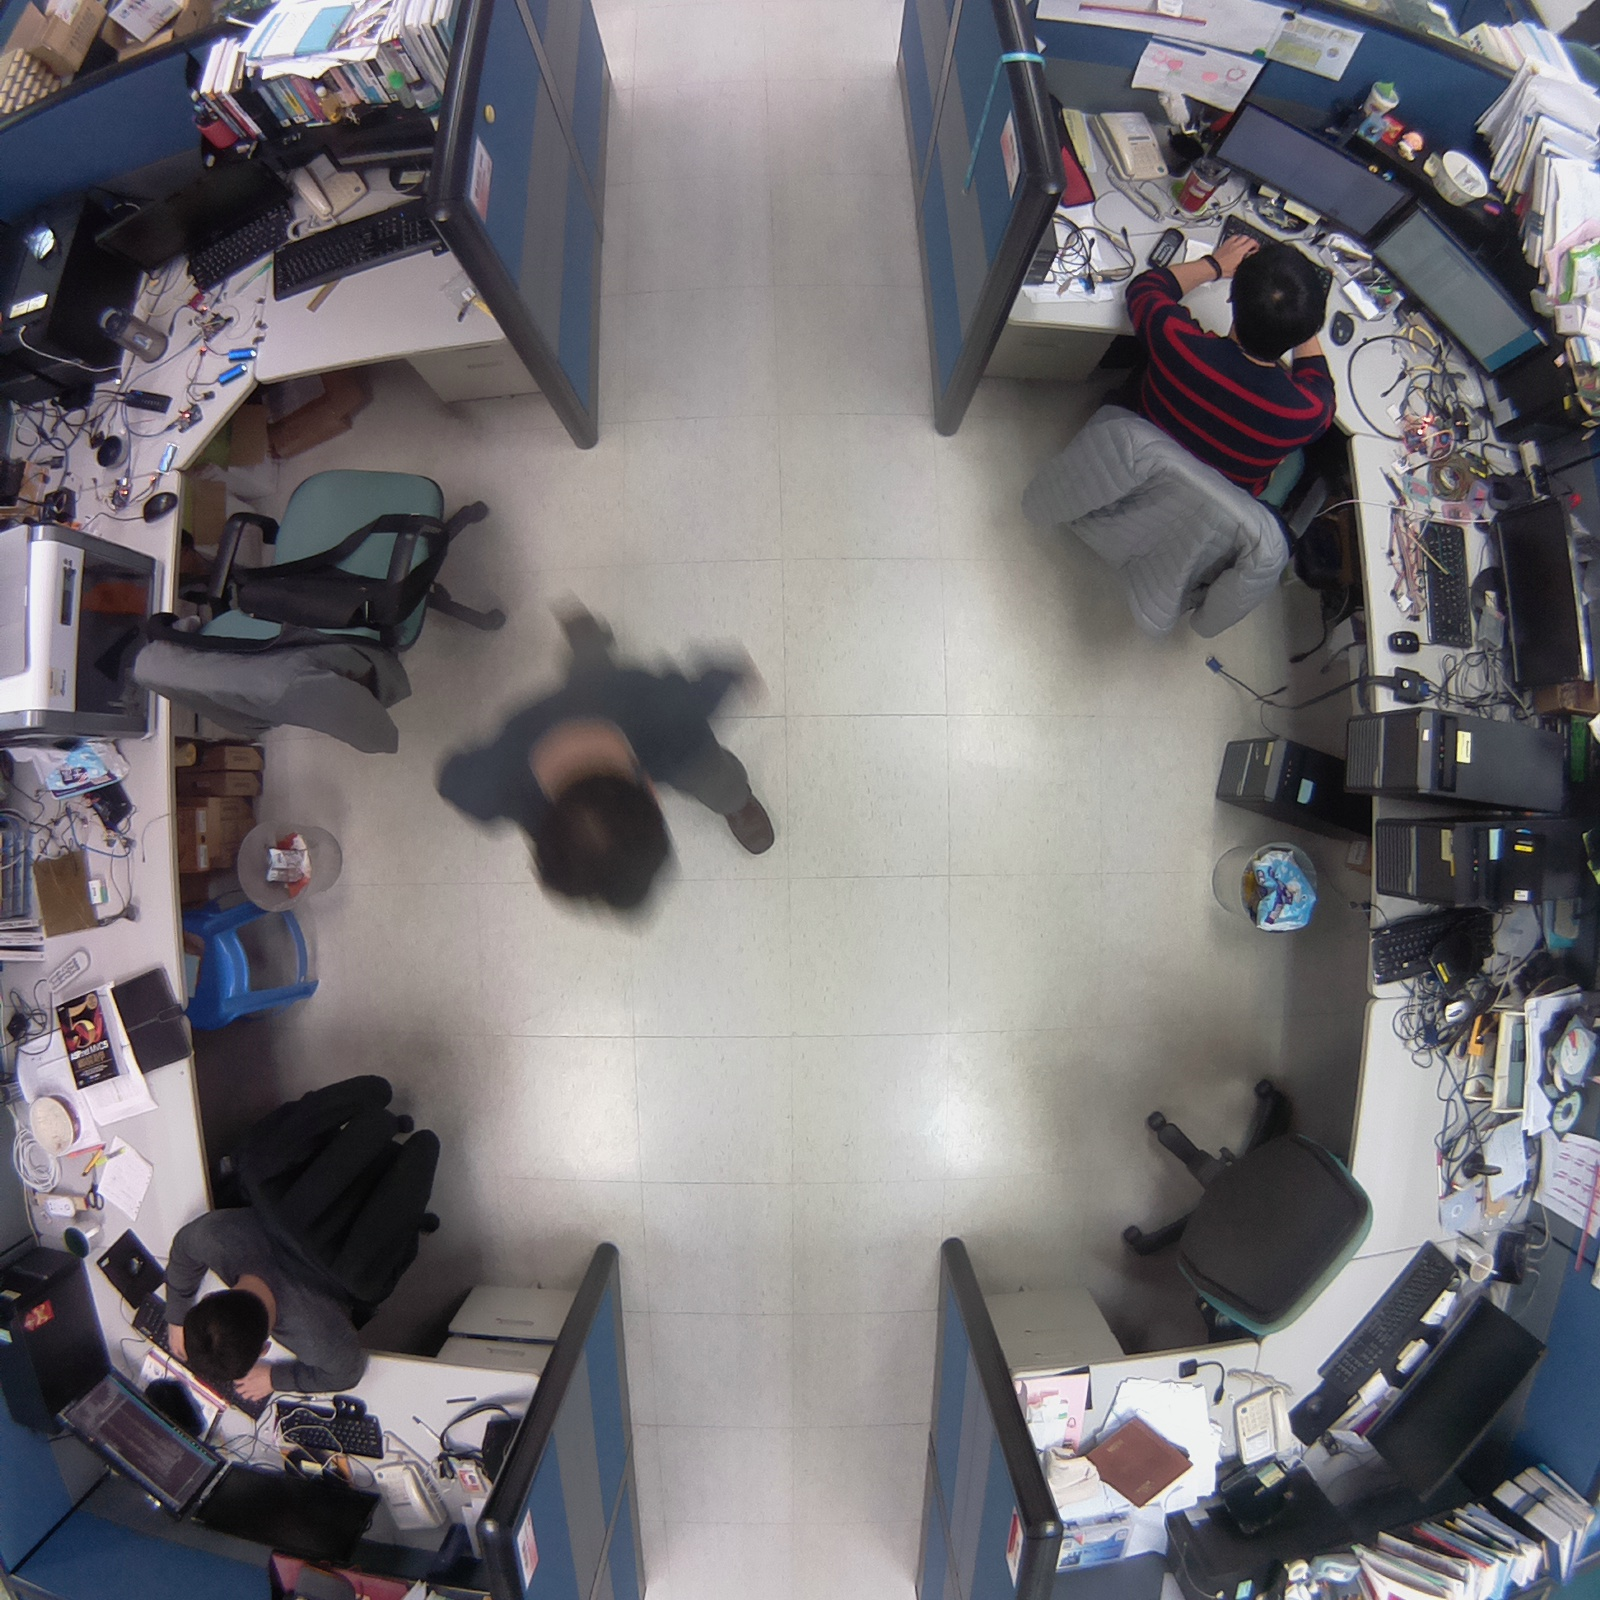chair: (112, 442, 517, 768), (1094, 1068, 1386, 1352)
head: (525, 763, 687, 936), (1219, 240, 1342, 355), (178, 1287, 280, 1391)
sitting: (1001, 229, 1344, 650), (130, 1055, 453, 1415)
walking: (428, 583, 782, 946)
